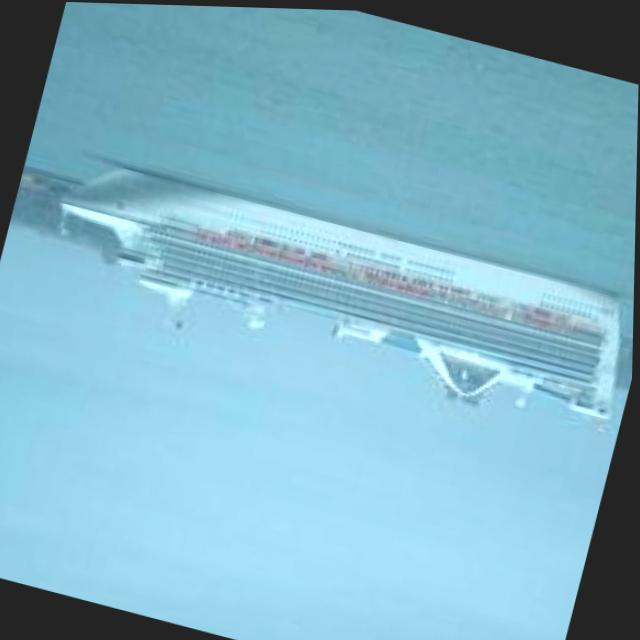ship2: (61, 156, 624, 416)
